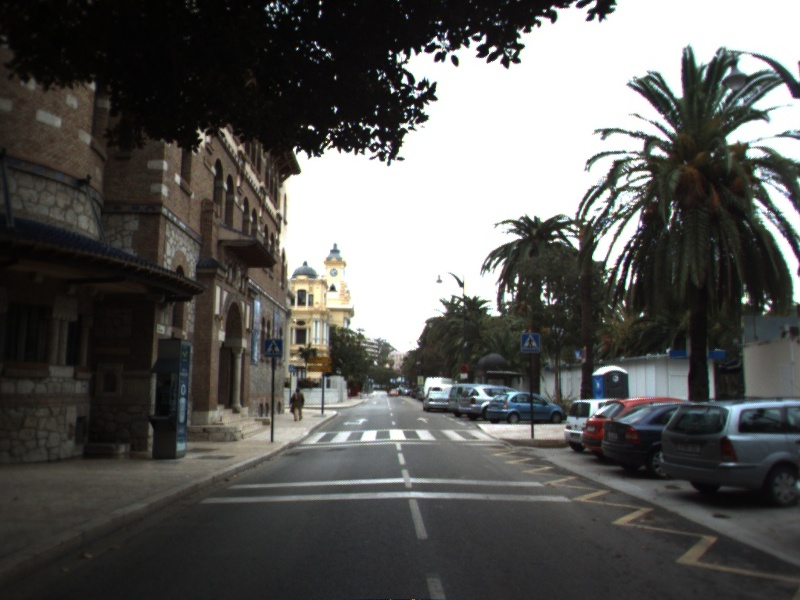STRAIGHT: (415, 415, 432, 425)
STRAIGHT_LEFT: (340, 416, 370, 427)
